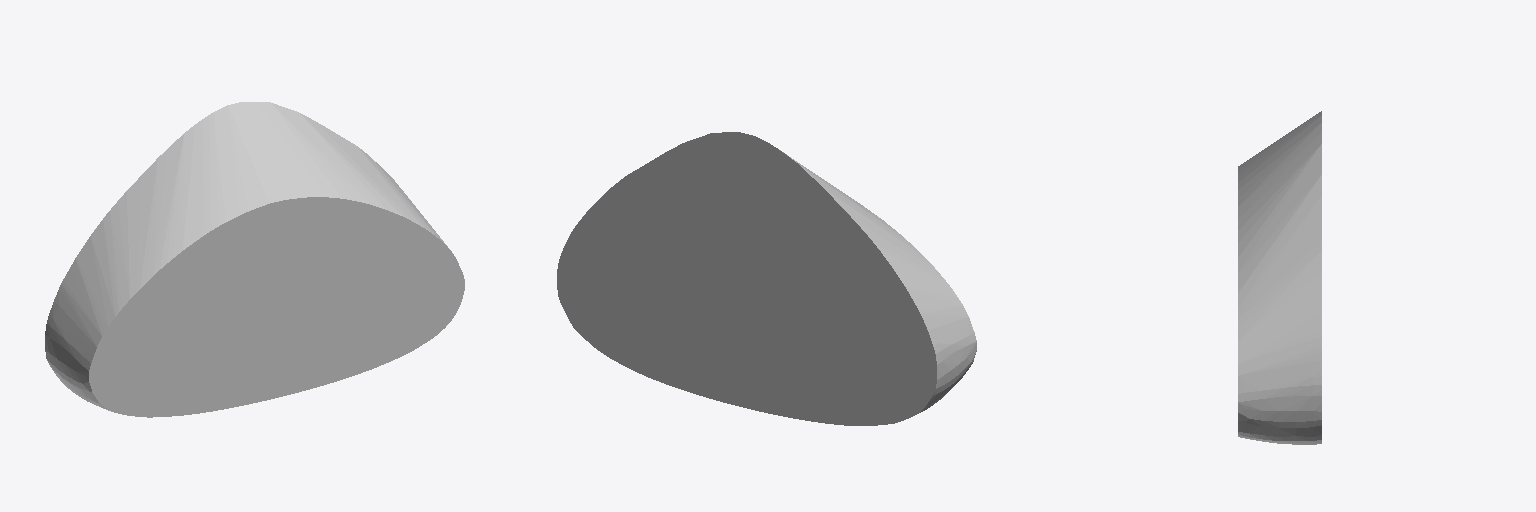
File: duck_collision_6.obj
3 views of the same model, side by side, from view 1: azimuth 30°, elevation 25°; view 2: azimuth 150°, elevation 25°; view 3: azimuth 270°, elevation 25° (orthographic).
Bounding box in the file's own units: 0.0299 × 0.0205 × 0.0057.